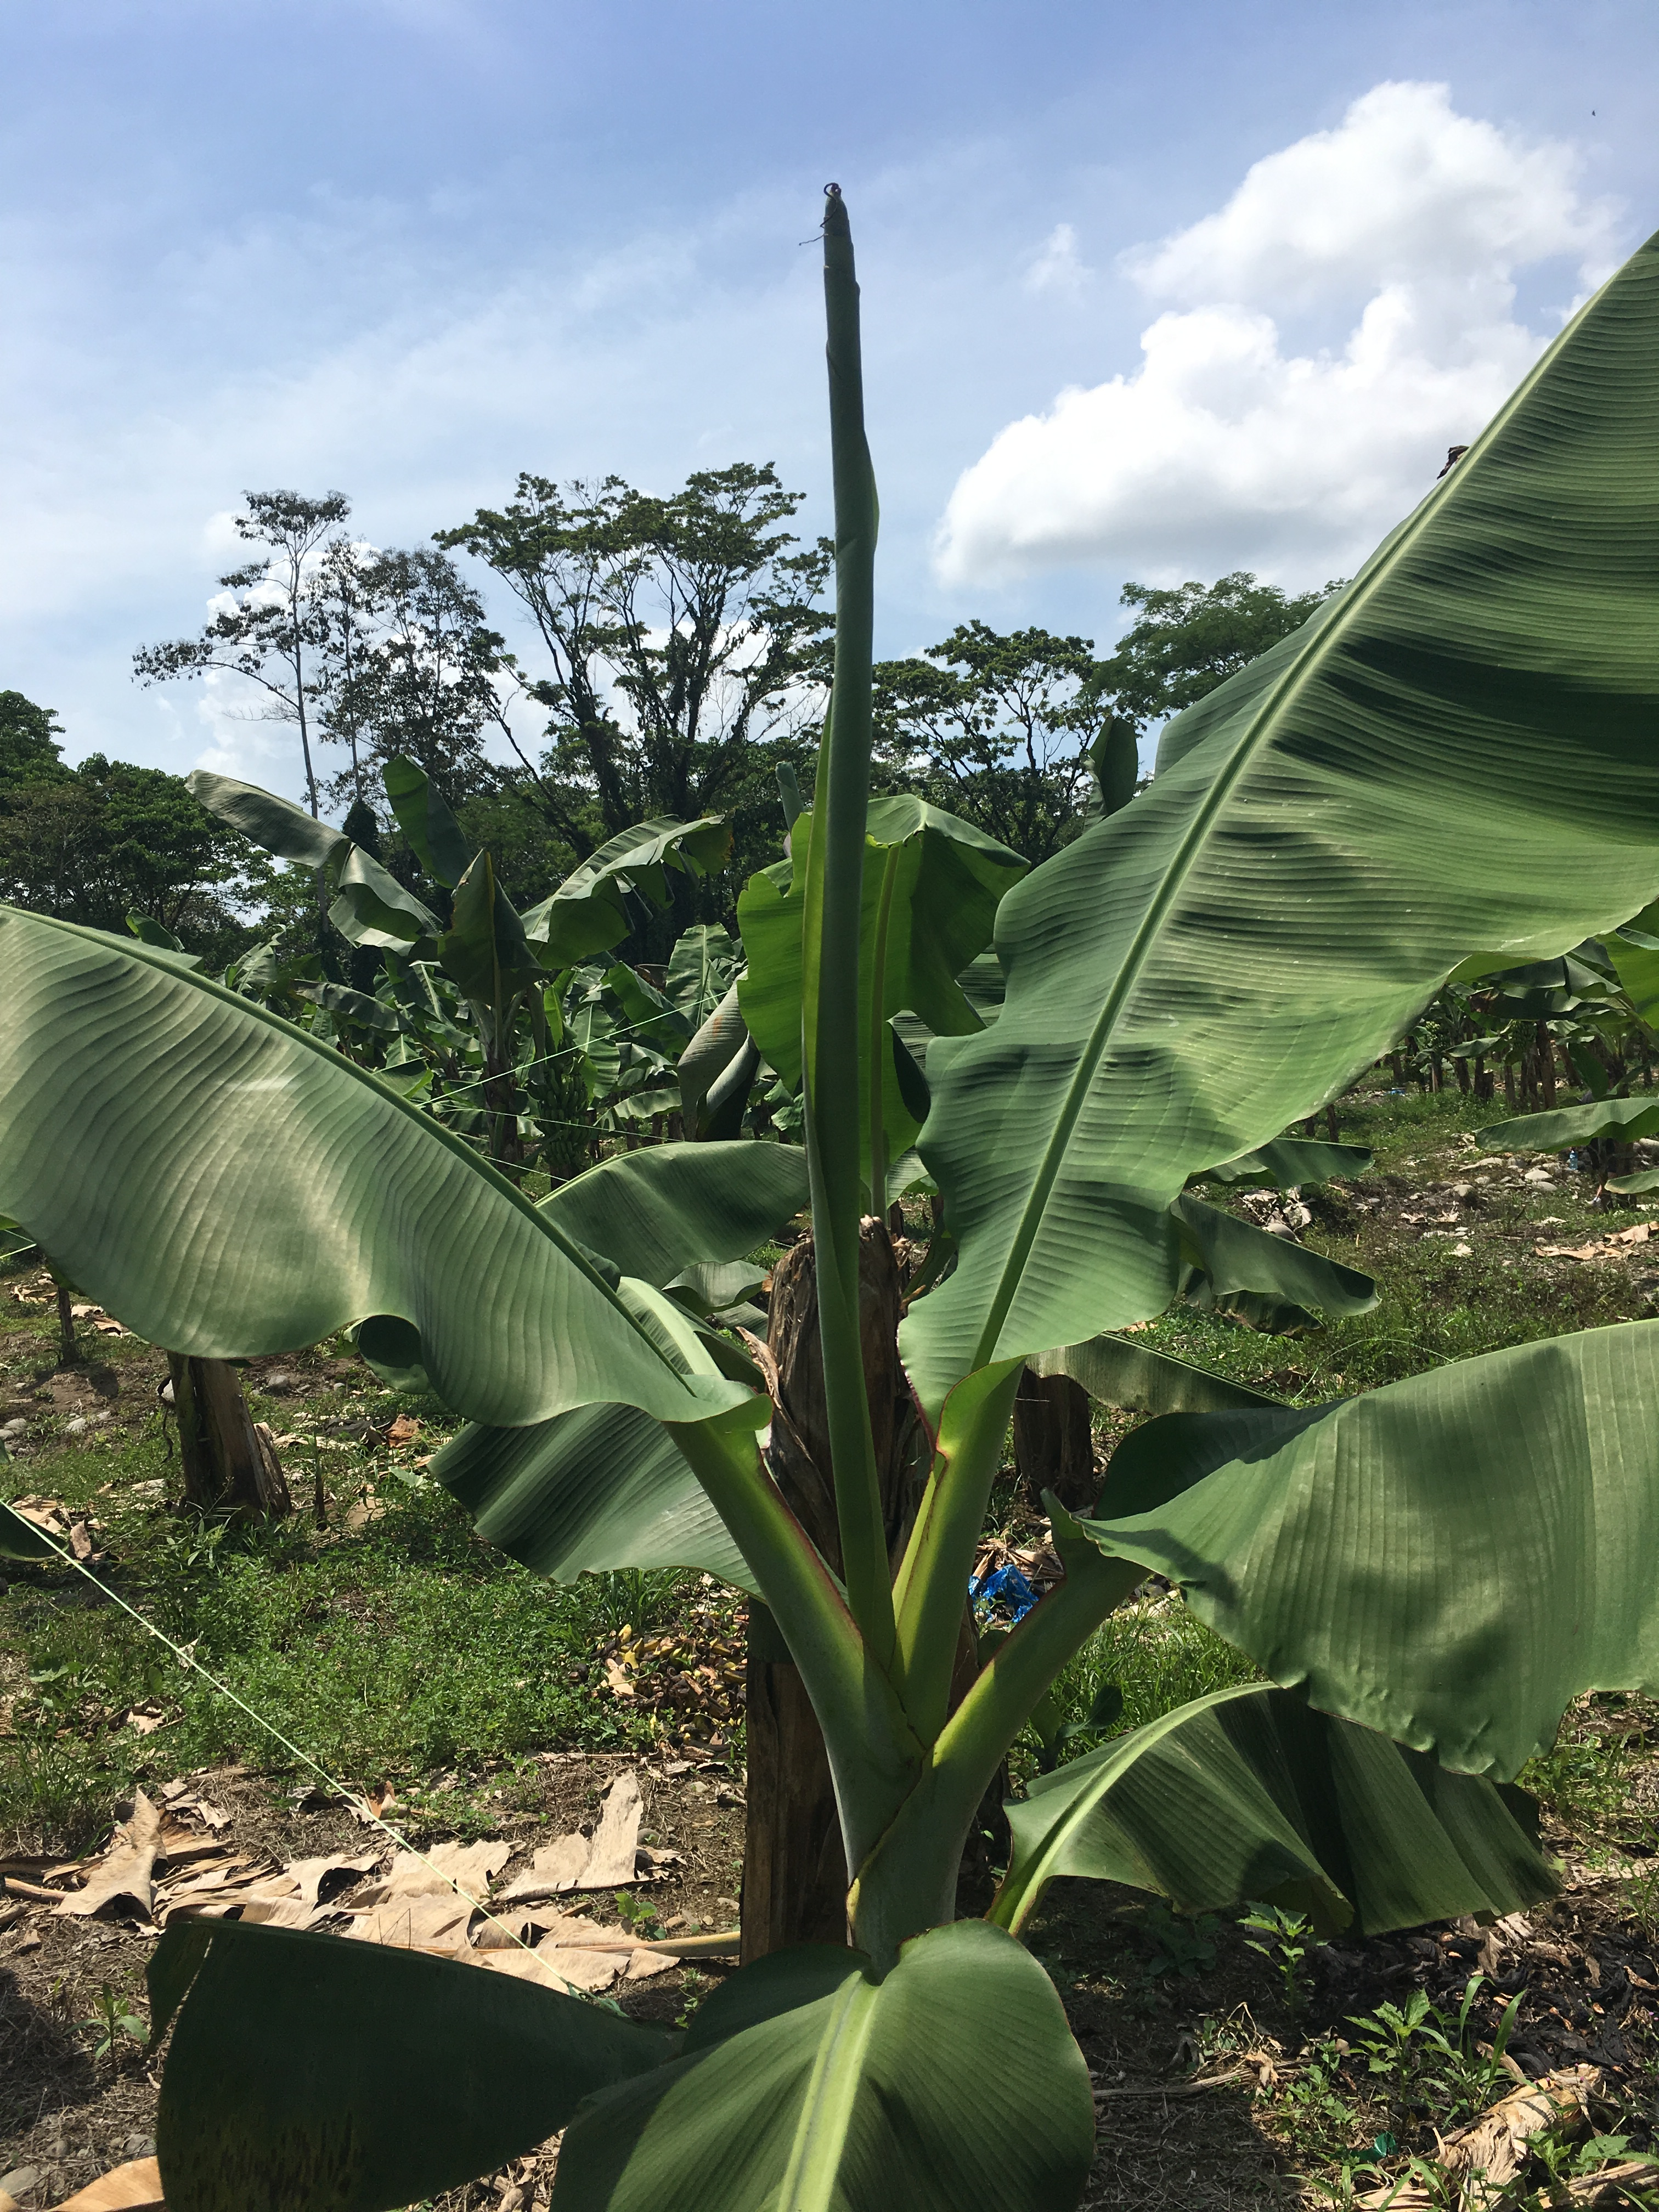candleleafs: (802, 172, 897, 1569)
